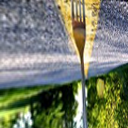fork: (62, 4, 103, 128)
